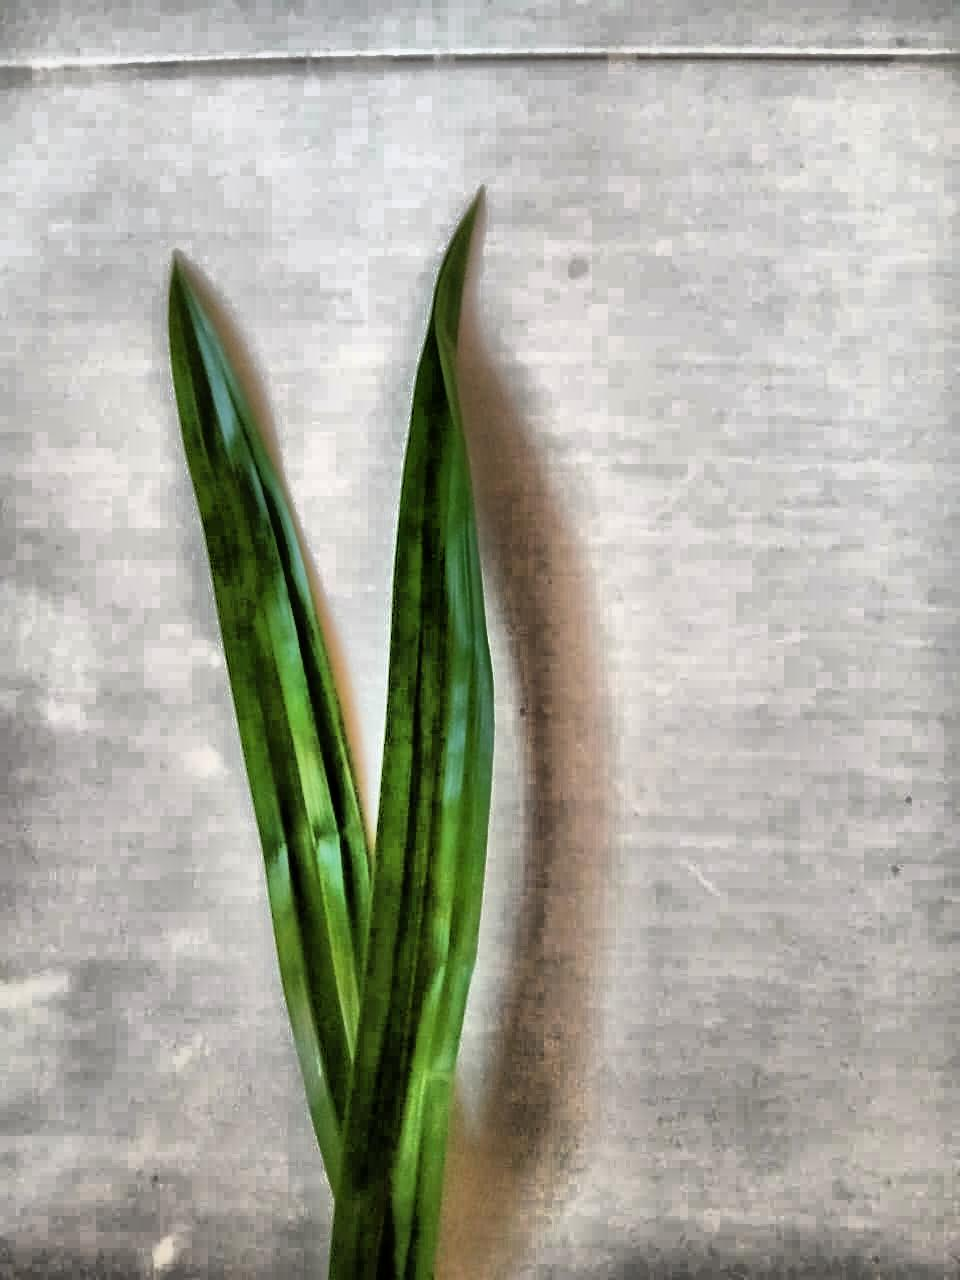daun pandan: (169, 197, 493, 1279)
